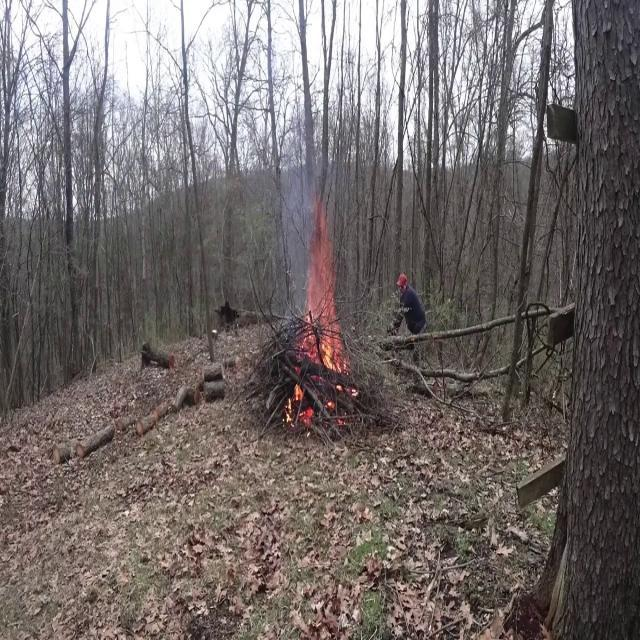Fire: (288, 211, 348, 427), (300, 214, 348, 390)
